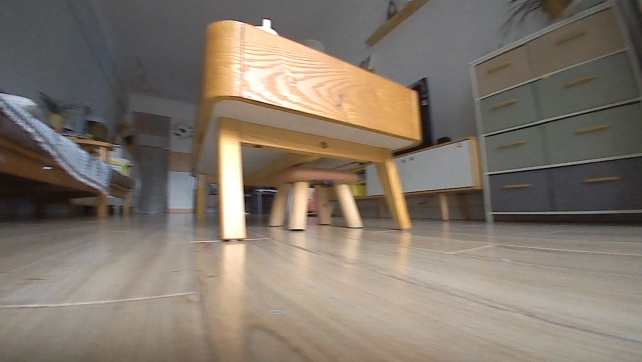TV_stand1: (348, 133, 483, 223)
sofa1: (0, 94, 134, 219)
